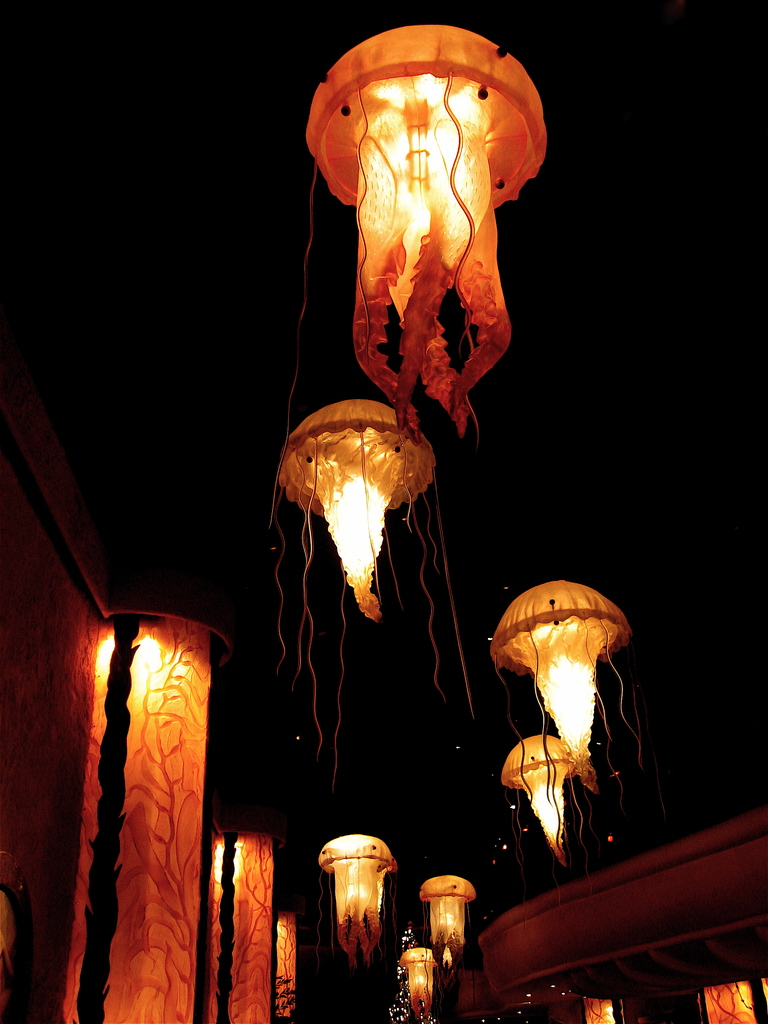Jellyfish: (299, 21, 547, 442), (255, 401, 478, 784), (488, 574, 640, 792), (500, 730, 583, 864), (311, 833, 392, 966), (419, 869, 478, 967), (388, 952, 437, 1023)
